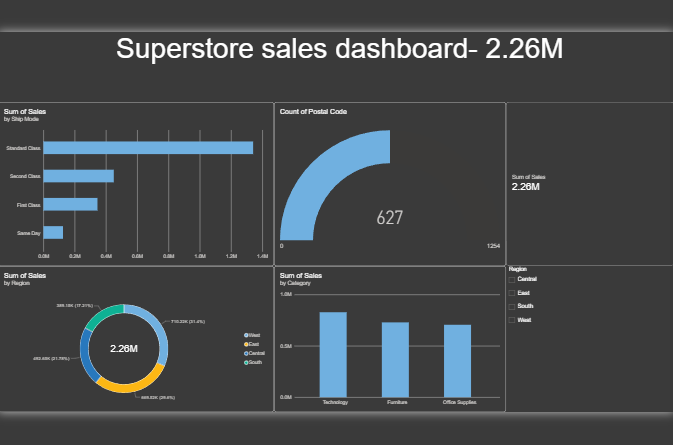

What the dashboard file says about the page in this screenshot:
{"tool":"powerbi","page":{"name":"Page 1","canvas":[1920,1080],"ordinal":0},"visuals":[{"type":"clusteredColumnChart","fields":{"Category":["superstore csv.Category"],"Y":["Sum(superstore csv.Sales)"]},"box":[783.9,664.6,658.9,414.7],"z":0},{"type":"donutChart","fields":{"Category":["superstore csv.Region"],"Y":["Sum(superstore csv.Sales)"]},"box":[0,664.6,783.9,414.7],"z":1},{"type":"cardVisual","fields":{"Data":["Sum(superstore csv.Sales)"]},"box":[1442.8,198.8,477.2,465.8],"z":2},{"type":"slicer","fields":{"Values":["superstore csv.Region"]},"box":[1442.8,664.6,477.2,414.7],"z":3},{"type":"barChart","fields":{"Category":["superstore csv.Ship Mode"],"Y":["Sum(superstore csv.Sales)"]},"box":[0,198.8,783.9,465.8],"z":4},{"type":"textbox","box":[0,0,1920,198.8],"z":5},{"type":"gauge","fields":{"Y":["Count(superstore csv.Postal Code)"]},"box":[783.9,198.8,658.9,465.8],"z":6}]}

Visuals, with their boxes in screenshot pixels (x1, y1, x2, y2):
clusteredColumnChart - superstore csv.Category x Sum(superstore csv.Sales): 272, 266, 508, 415
donutChart - superstore csv.Region x Sum(superstore csv.Sales): 0, 266, 272, 415
cardVisual - Sum(superstore csv.Sales): 508, 99, 672, 266
slicer - superstore csv.Region: 508, 266, 672, 415
barChart - superstore csv.Ship Mode x Sum(superstore csv.Sales): 0, 99, 272, 266
textbox: 0, 28, 672, 99
gauge - Count(superstore csv.Postal Code): 272, 99, 508, 266
